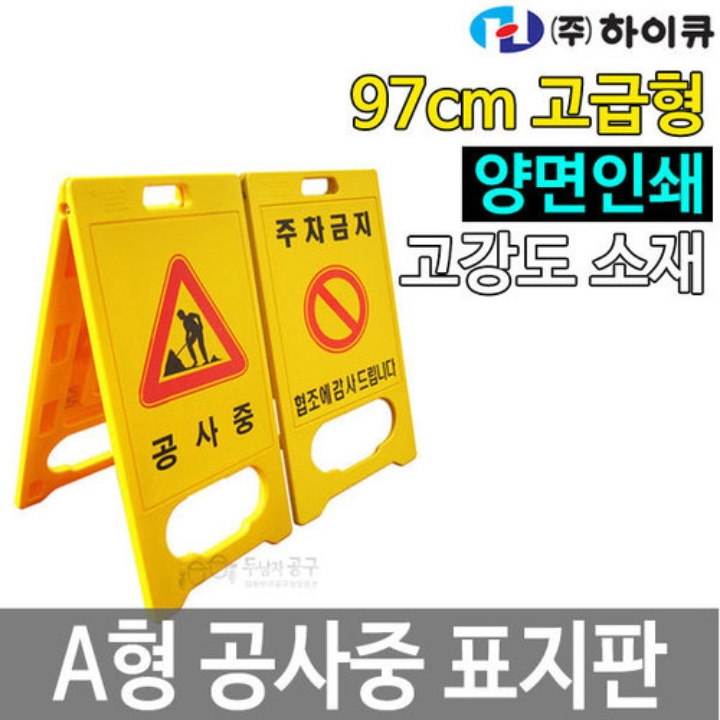const: (157, 303, 223, 379)
